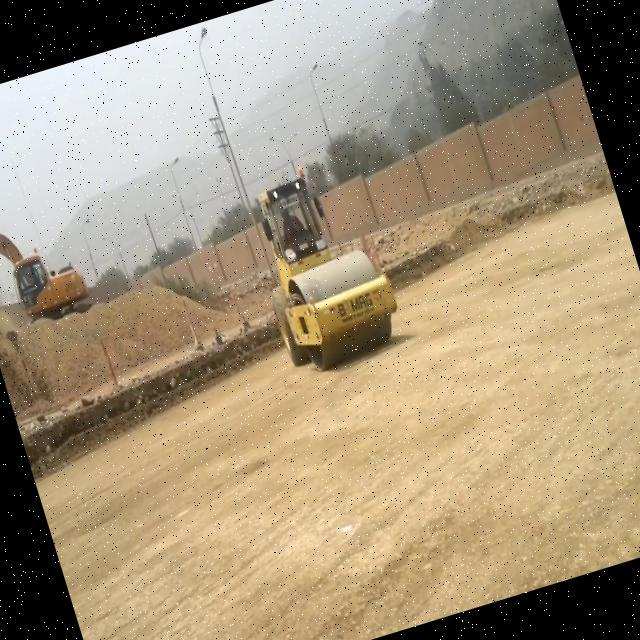Excavator: (0, 171, 99, 345)
Roller: (238, 157, 408, 376)
